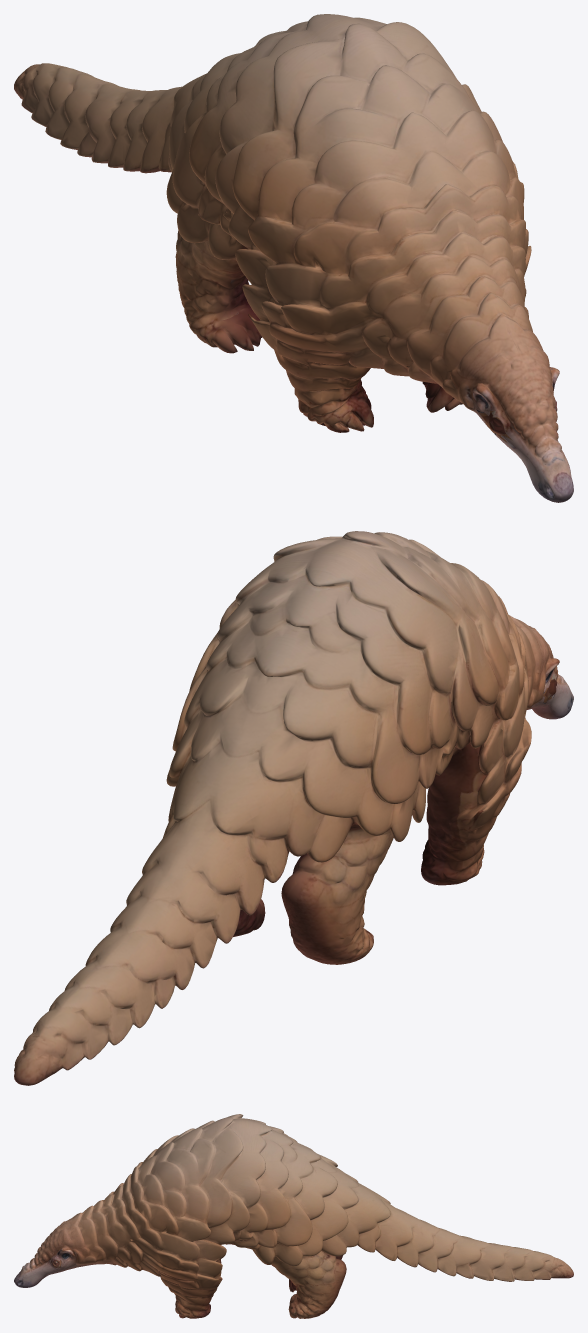
The model's file is Pangolin.glb.
3 views of the same model, one above another, from view 1: azimuth 30°, elevation 25°; view 2: azimuth 150°, elevation 25°; view 3: azimuth 270°, elevation 25° (orthographic). The views are drawn at different scales.
Parts seen in each view (by area): view 1: node_0.002; view 2: node_0.002; view 3: node_0.002.
Part boxes in pixels (x1,y1,x2,y2): node_0.002: (14, 14, 573, 502); node_0.002: (14, 531, 573, 1085); node_0.002: (14, 1114, 573, 1318).
Size of the model in its own units: 0.3124 by 0.4222 by 1.16.
1 material, 1 textured.
